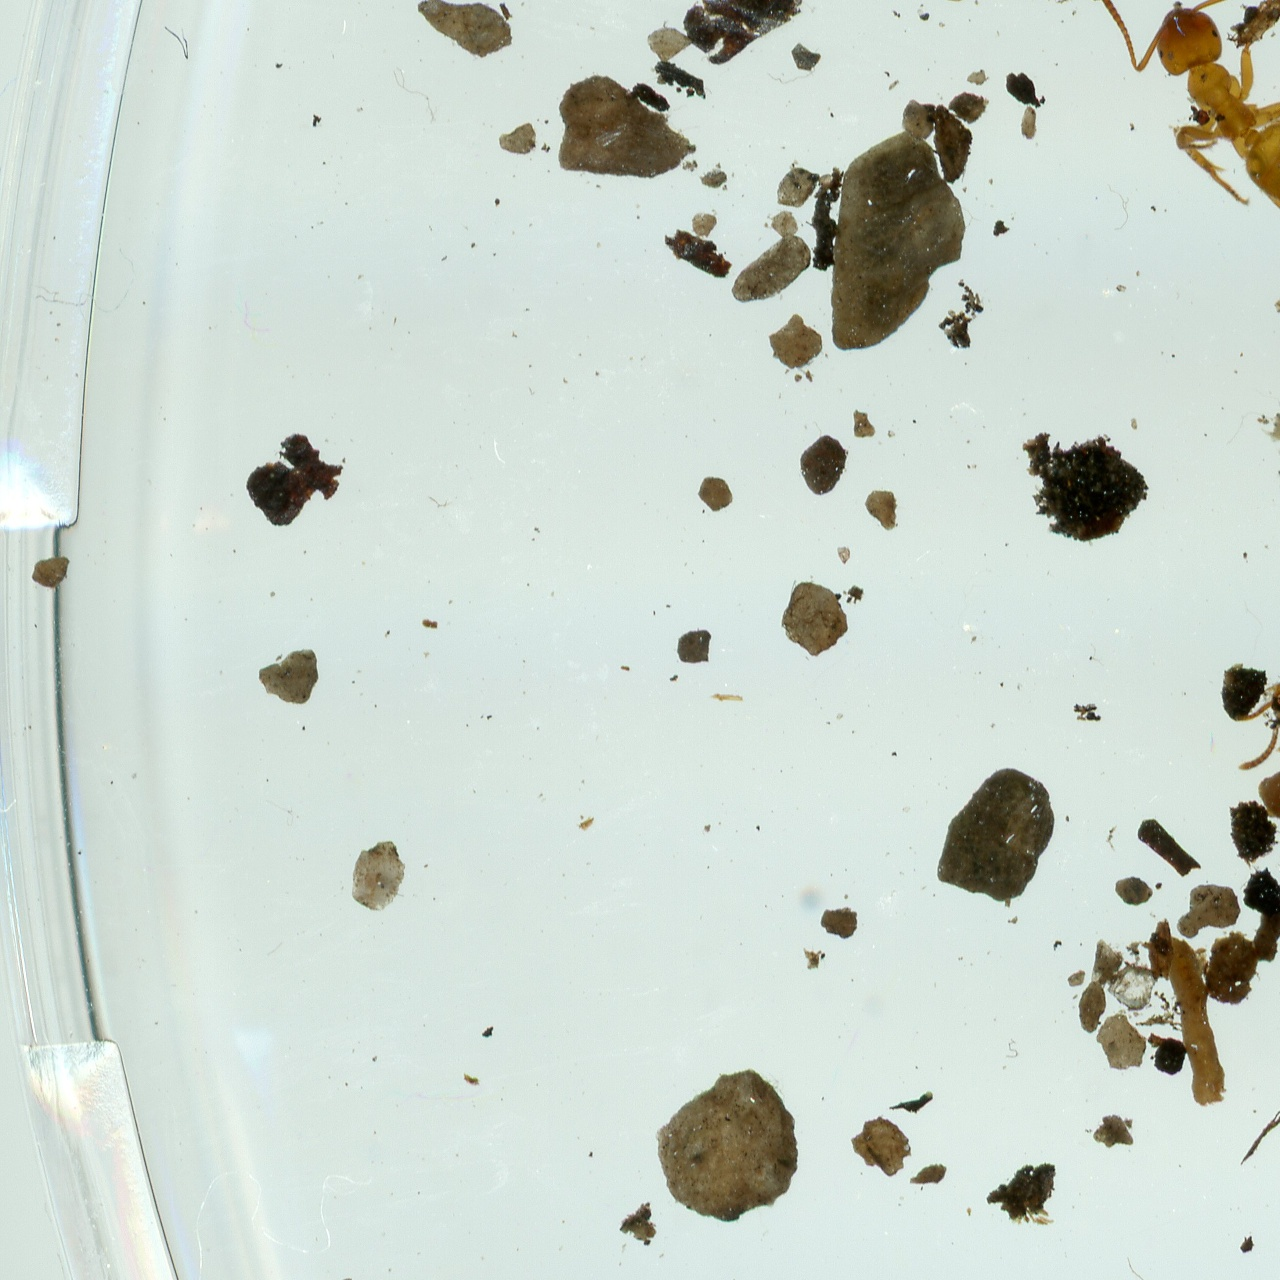arthropod: (1076, 0, 1280, 270), (1231, 443, 1280, 802)
